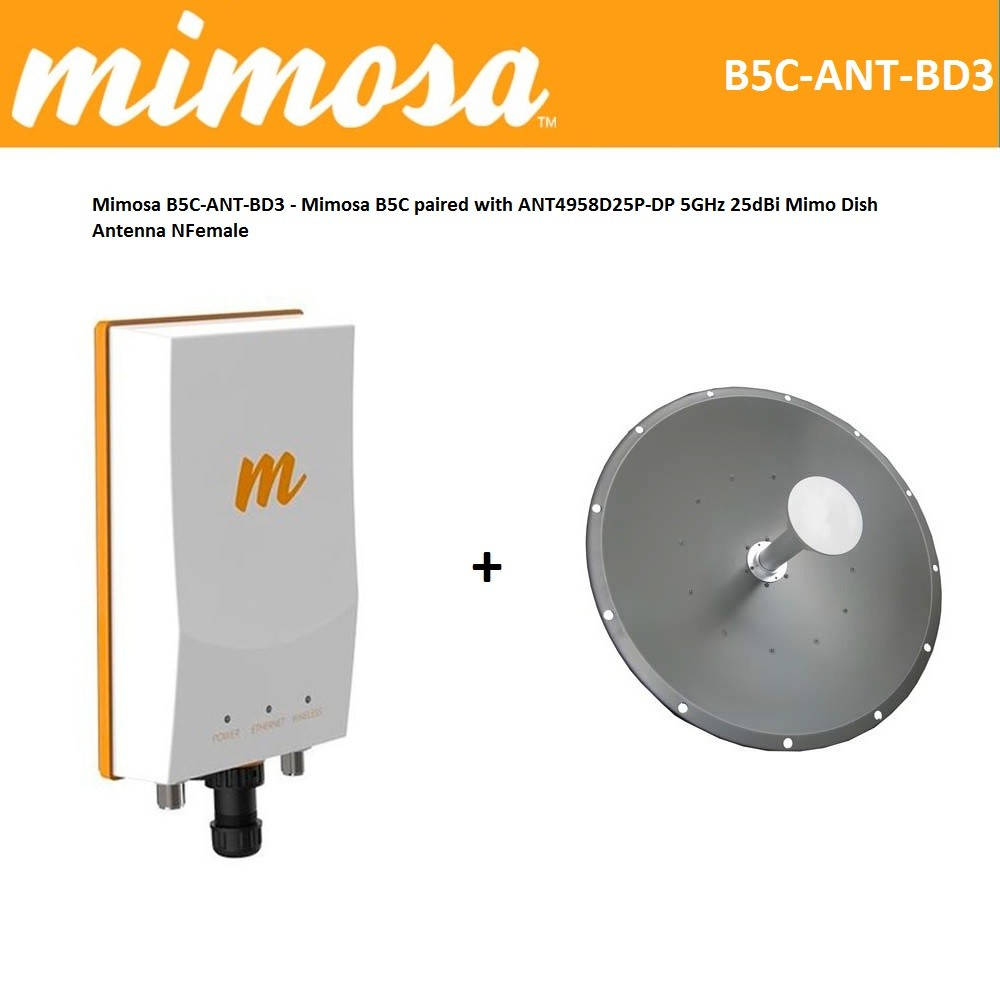ba: (580, 362, 942, 808)
